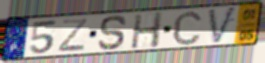5: (28, 19, 59, 55)
C: (171, 10, 204, 47)
H: (129, 11, 165, 50)
S: (97, 14, 129, 51)
V: (207, 5, 239, 46)
Z: (56, 17, 89, 53)
